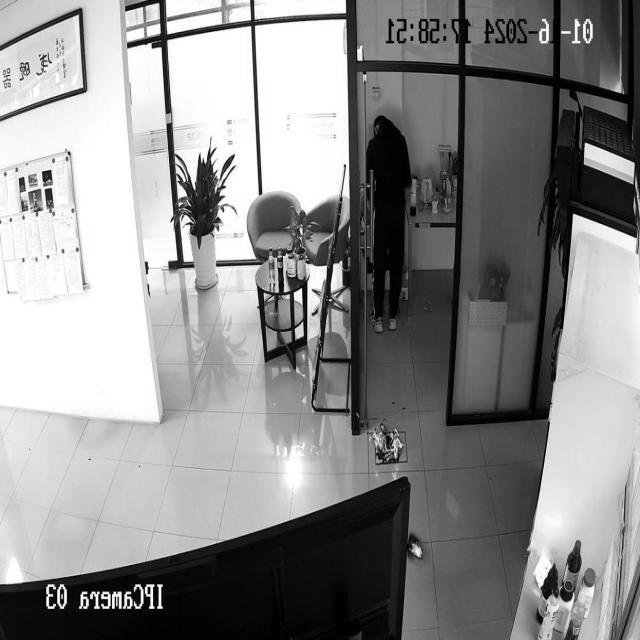smoke: (373, 425, 404, 463), (410, 538, 428, 564)
